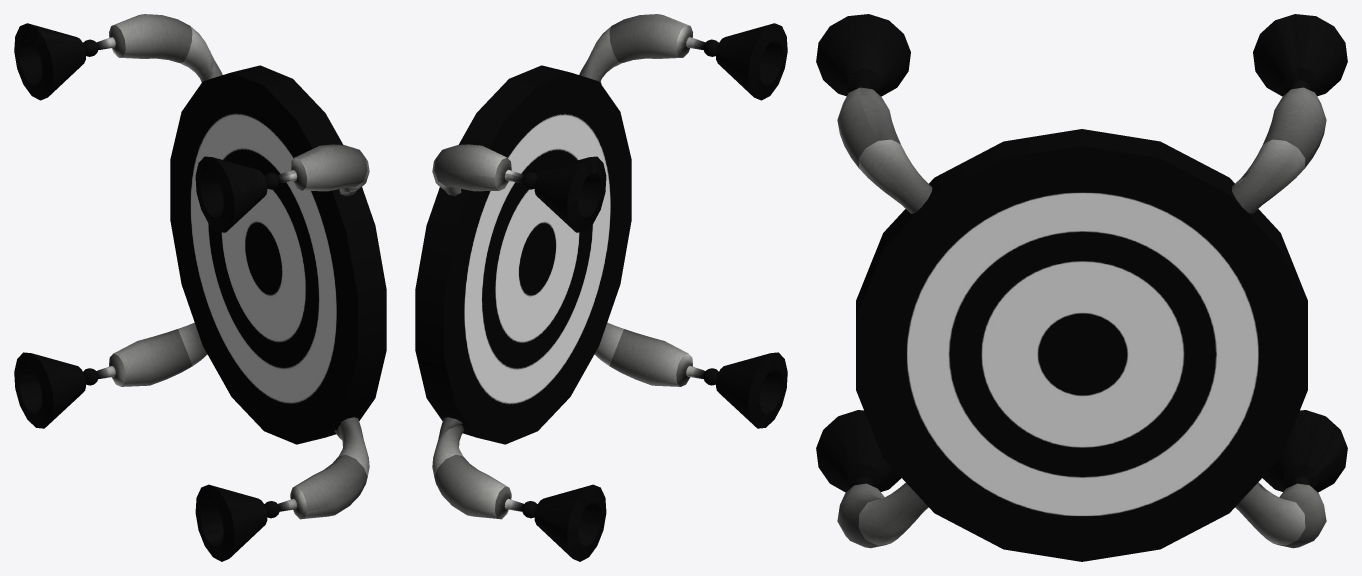
Rendered from Boss Fase 1.obj.
The picture shows the model from 3 angles, left to right: view 1: azimuth 30°, elevation 25°; view 2: azimuth 150°, elevation 25°; view 3: azimuth 270°, elevation 25°; orthographic projection. The views are drawn at different scales.
Visible parts, largest first — view 1: Cylinder001, Cannon_05, Cannon_01, Cannon_07, Cannon_03; view 2: Cylinder001, Cannon_07, Cannon_03, Cannon_05, Cannon_01; view 3: Cylinder001, Cannon_03, Cannon_01, Cannon_05, Cannon_07.
Boxes of the visible parts, x1,y1,x2,y2 form: Cylinder001: (96,14,386,519); Cannon_05: (195,484,279,561); Cannon_01: (14,23,98,100); Cannon_07: (14,352,98,428); Cannon_03: (195,156,279,232); Cylinder001: (415,14,705,519); Cannon_07: (522,484,606,561); Cannon_03: (703,23,787,100); Cannon_05: (703,352,787,428); Cannon_01: (522,156,606,232); Cylinder001: (837,87,1326,561); Cannon_03: (816,14,910,96); Cannon_01: (1253,14,1347,96); Cannon_05: (816,410,901,492); Cannon_07: (1262,410,1347,492).
Bounding box in the file's own units: 31.39 × 69.98 × 69.98.
